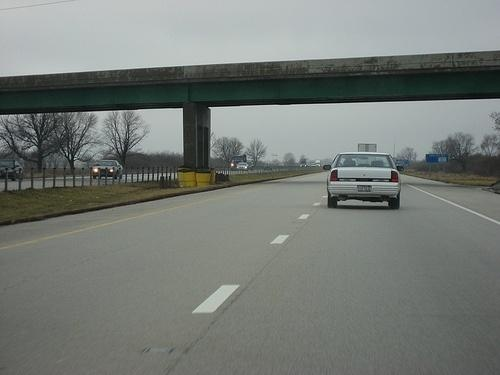car: (324, 151, 404, 210), (93, 161, 123, 179), (1, 161, 26, 181), (237, 163, 252, 172)
